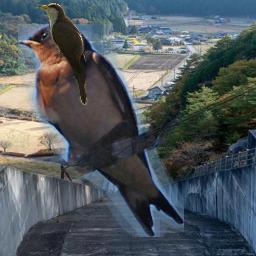Cuckoo: (38, 2, 90, 106)
Swallow: (18, 24, 184, 237)
